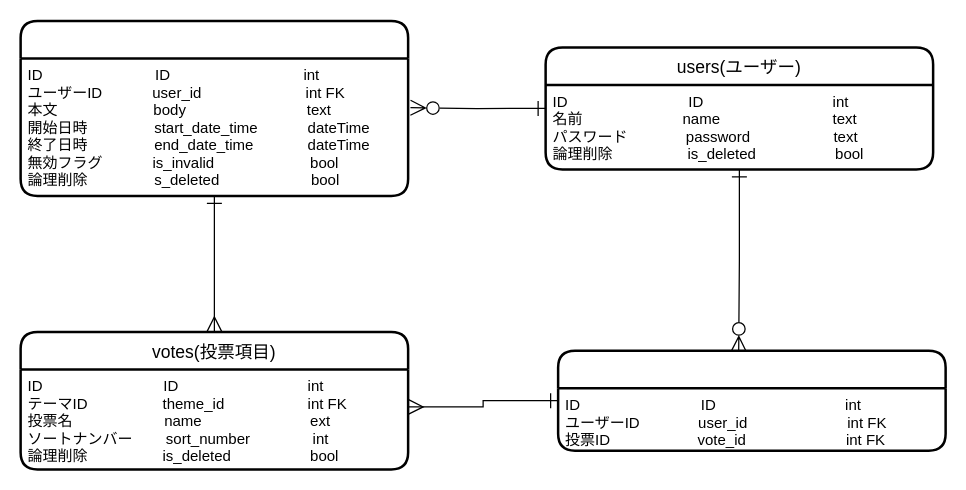
Some shapes in this 966 by 490 pixel diagram are drawn without their labels. The box of each missing label's shape, as (x1, y1, x2, y2) in pixels:
themes(テーマ): (19, 19, 409, 196)
vote_users(投票ユーザー): (556, 349, 946, 451)
